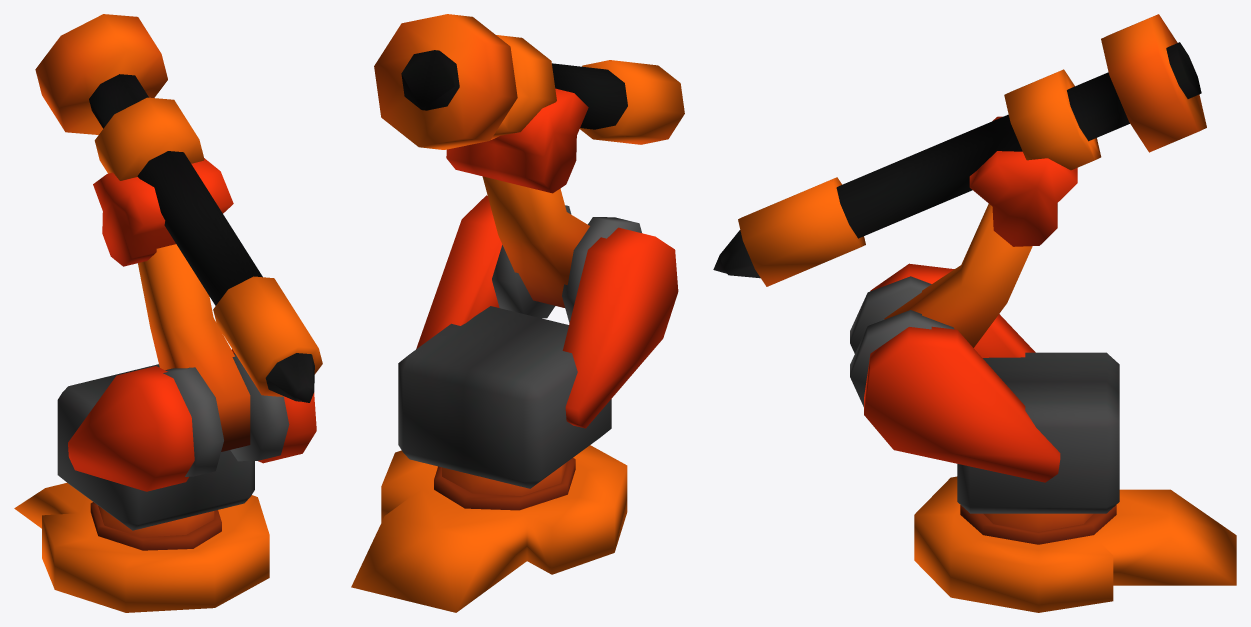
The model's file is Bracomecanico.fbx.
The picture shows the model from 3 angles, left to right: view 1: azimuth 30°, elevation 25°; view 2: azimuth 150°, elevation 25°; view 3: azimuth 270°, elevation 25°; orthographic projection. The views are drawn at different scales.
Visible parts, largest first — view 1: Bracomecanico; view 2: Bracomecanico; view 3: Bracomecanico.
Boxes of the visible parts, x1,y1,x2,y2 form: Bracomecanico: (14,14,322,612); Bracomecanico: (351,14,684,612); Bracomecanico: (713,14,1236,612).
Size of the model in its own units: 79.3 by 191 by 167.
Materials: 1 (1 with a texture image).
